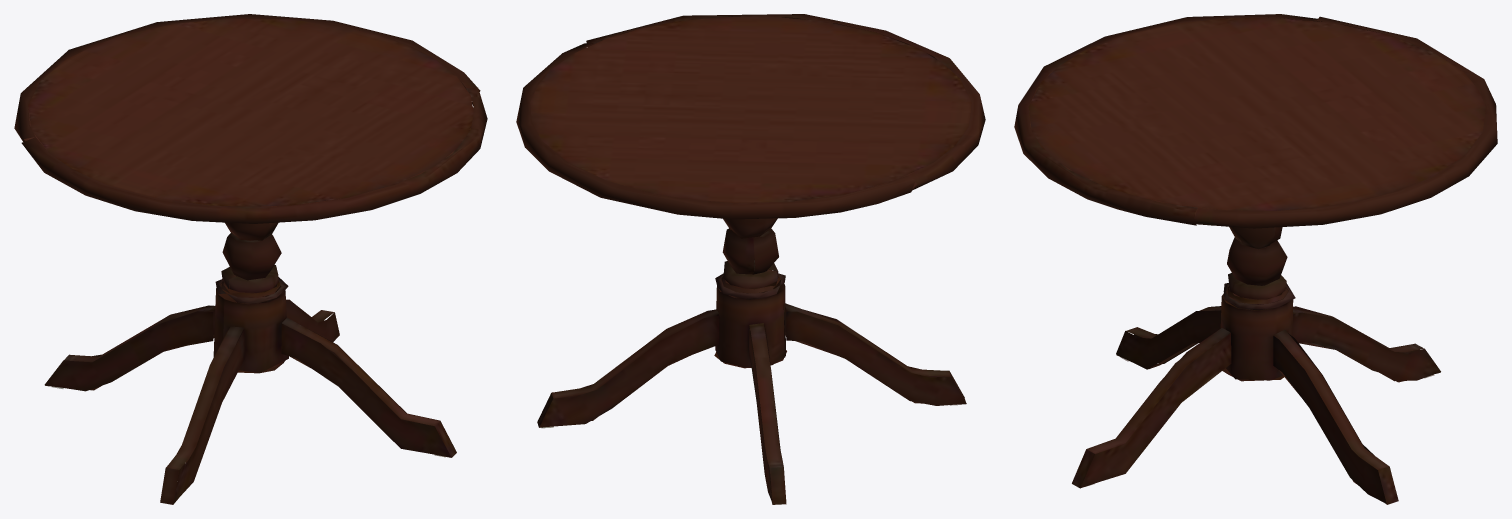
Rendered from roundtable.glb.
3 renders of one model, left to right at view 1: azimuth 30°, elevation 25°; view 2: azimuth 150°, elevation 25°; view 3: azimuth 270°, elevation 25°, orthographic. The views are drawn at different scales.
Visible parts, largest first — view 1: round_wooden_table_01; view 2: round_wooden_table_01; view 3: round_wooden_table_01.
Boxes of the visible parts, bbox=[...] form: round_wooden_table_01: bbox=[14, 14, 487, 504]; round_wooden_table_01: bbox=[516, 14, 985, 504]; round_wooden_table_01: bbox=[1014, 14, 1497, 504].
Size of the model in its own units: 1.4 by 1 by 1.4.
Materials: 1 (1 with a texture image).
